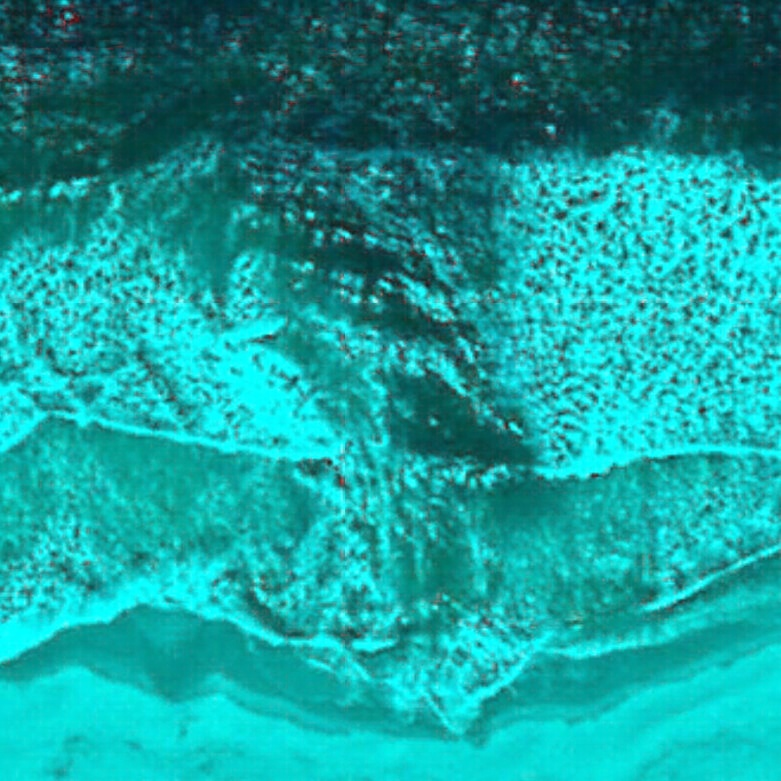rip_current: (221, 100, 588, 590)
